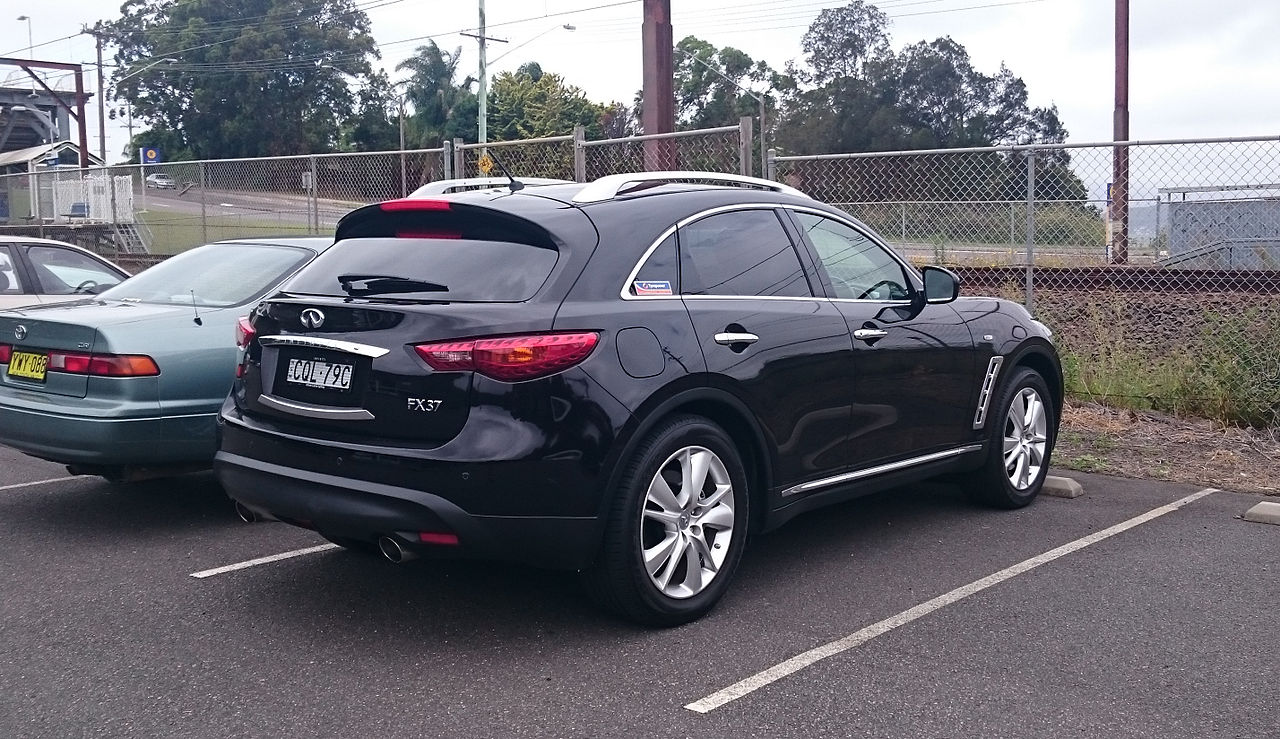plate: (286, 357, 355, 394), (6, 350, 49, 384)
